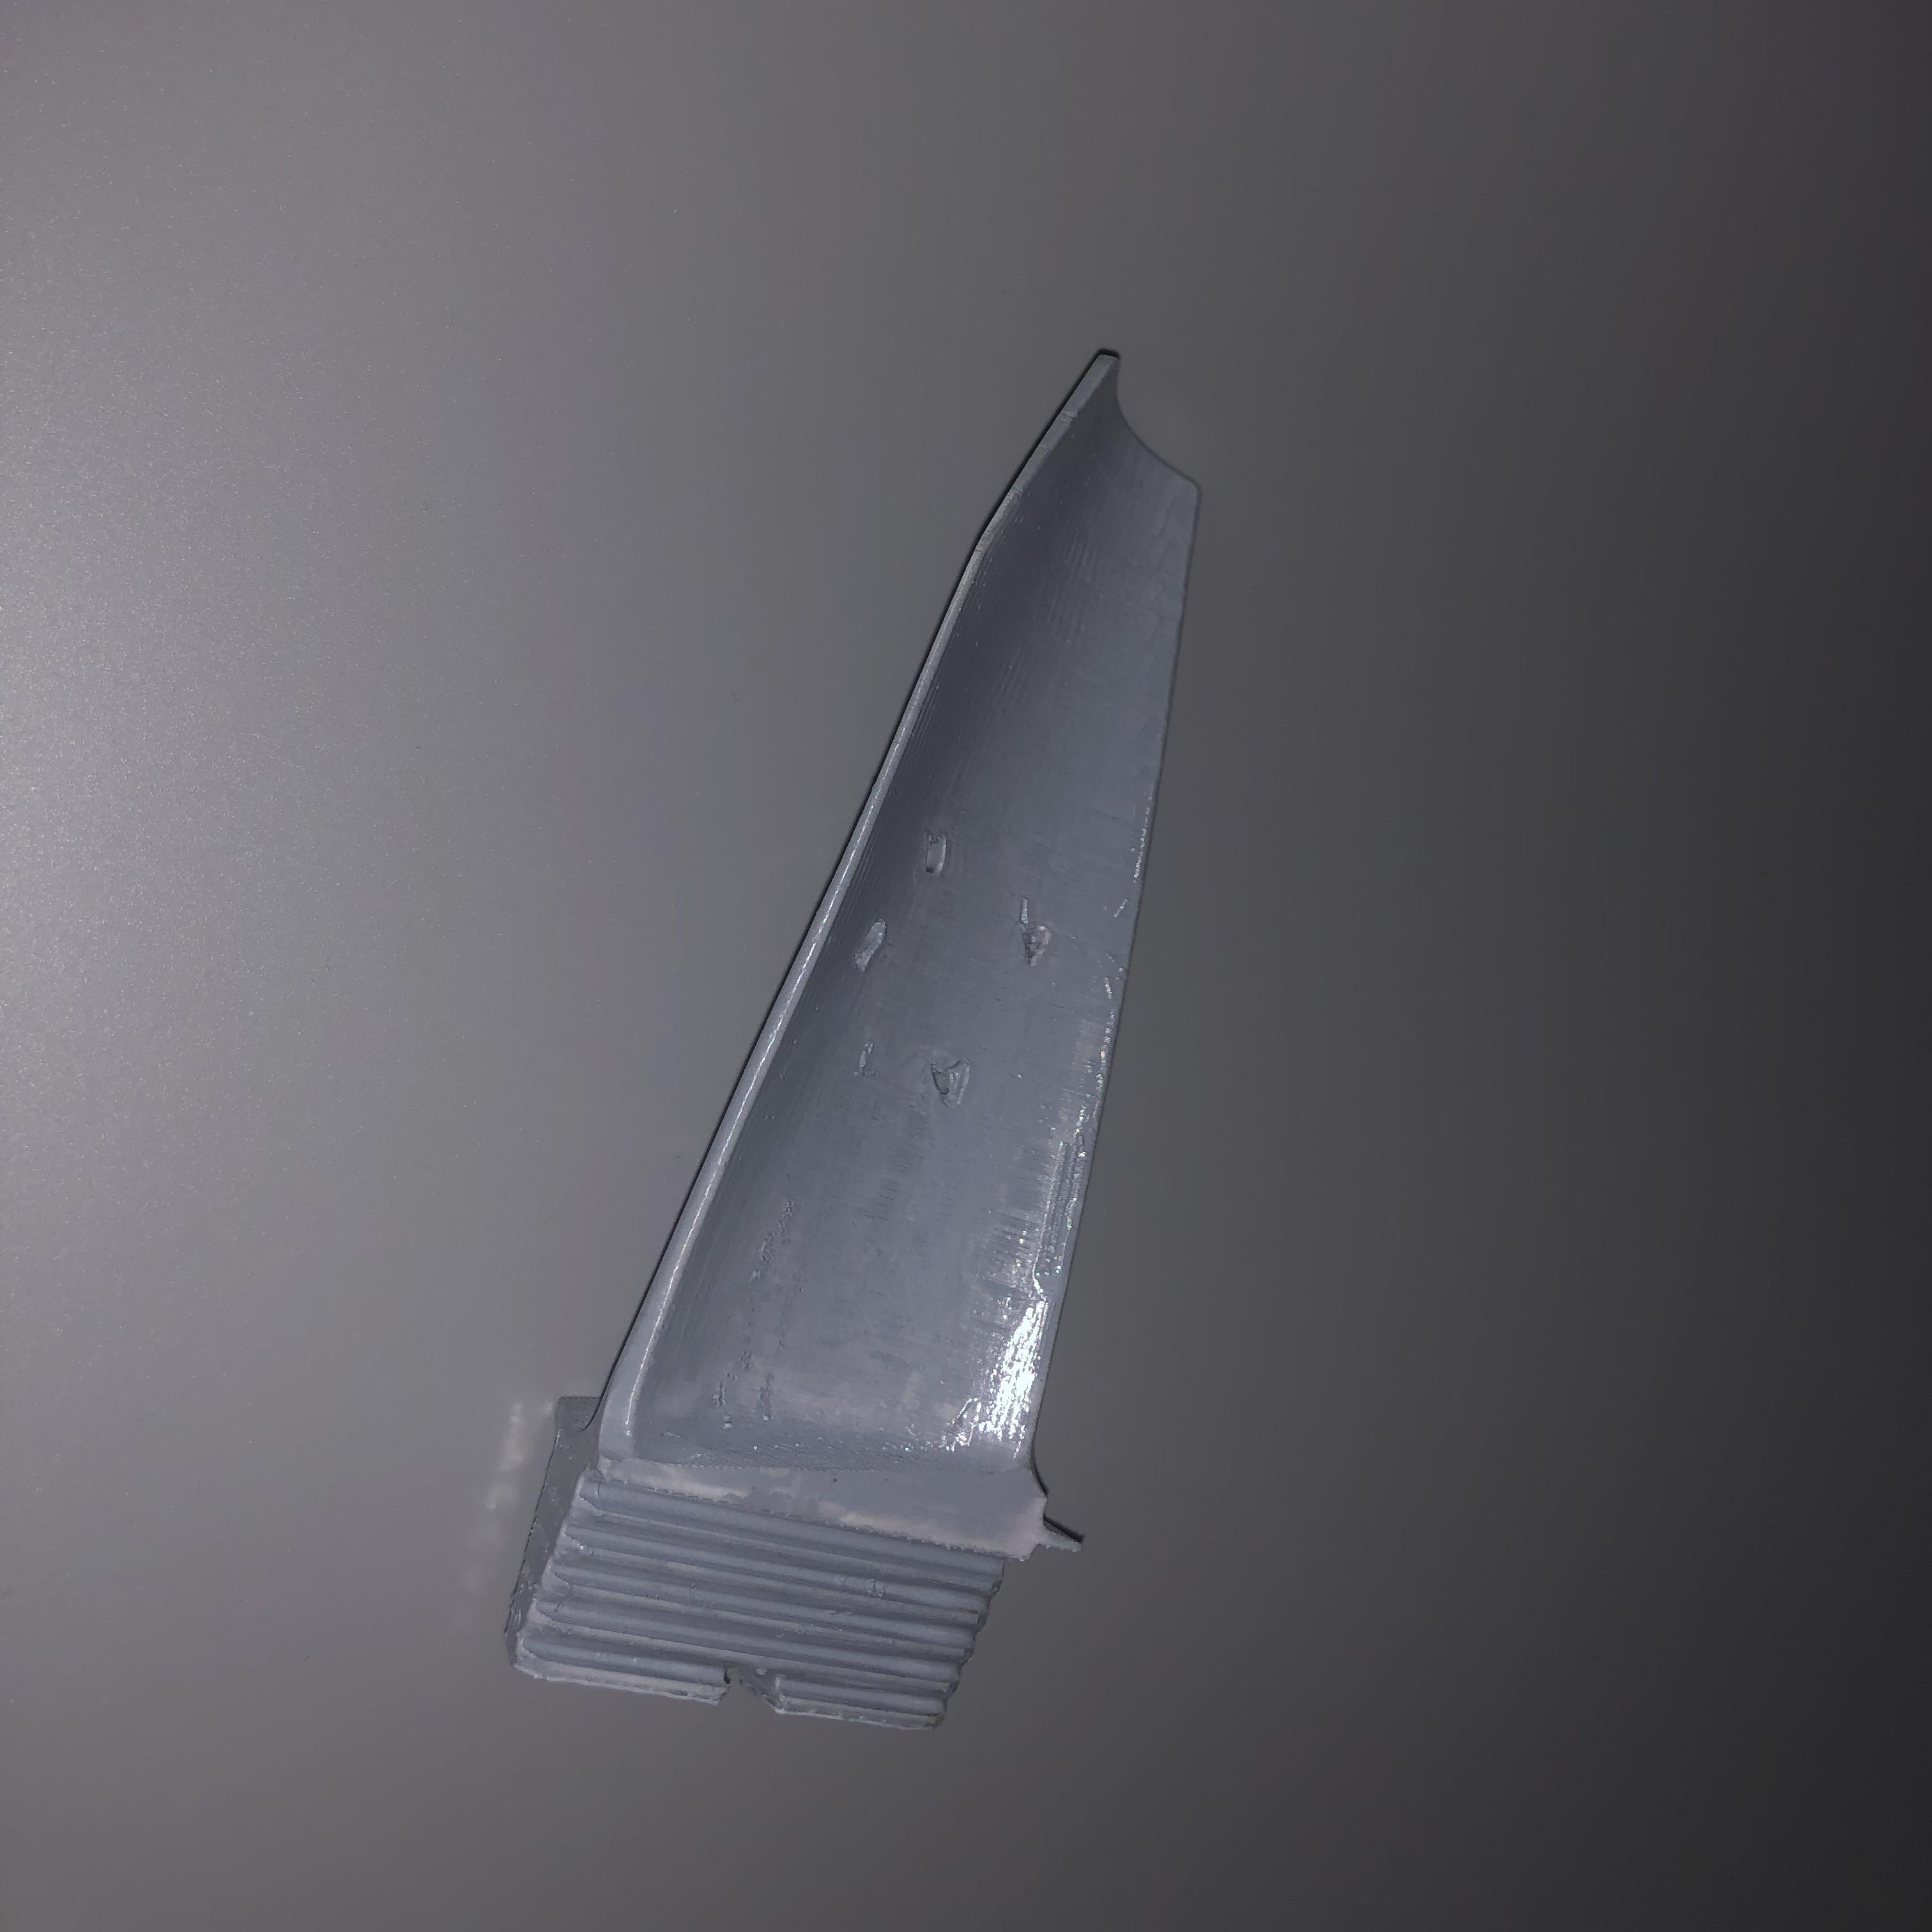breakdown: (853, 846, 1056, 1111)
